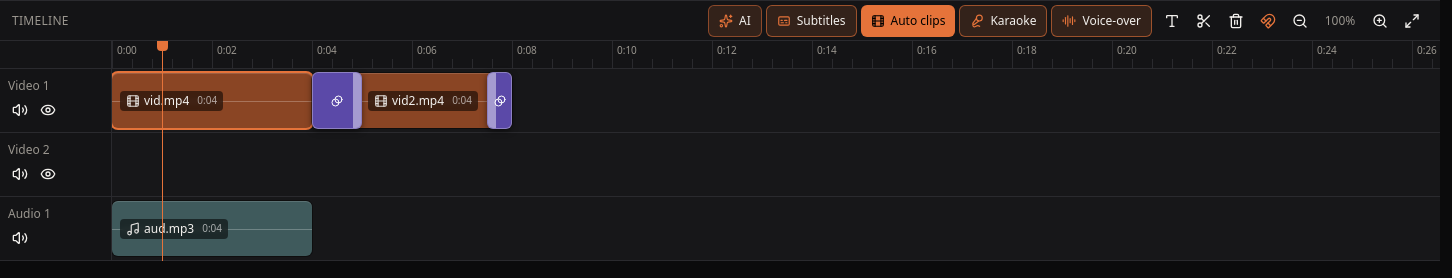
Scenario: transitions on the timeline › a clip shows where it comes in and leaves
Expected: the number of buttons with test id "transition-in-mark" is 1, [312,72,362,129]
Expected: the number of buttons with test id "transition-out-mark" is 1, [487,72,512,129]
Press the mouse on the slider named "Length of the transition in" at [357, 100], box [353,73,361,128]
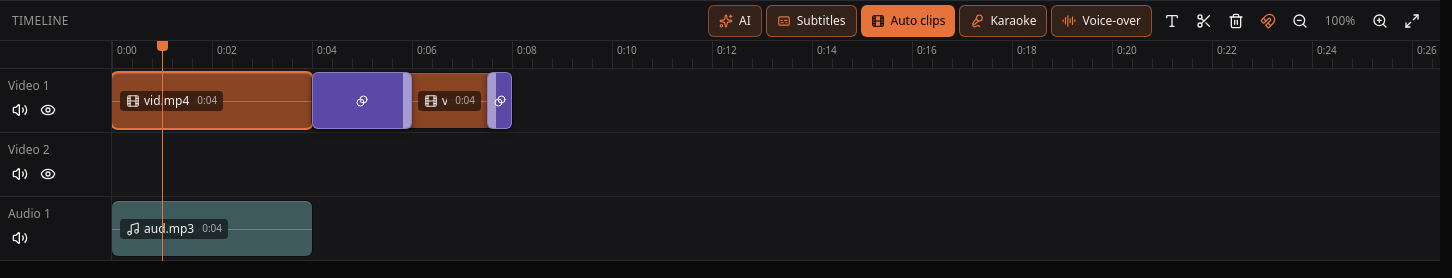
Click the button named "Transition out: Fade out, 0.5 s".
click(500, 100)  # box [487,72,512,129]
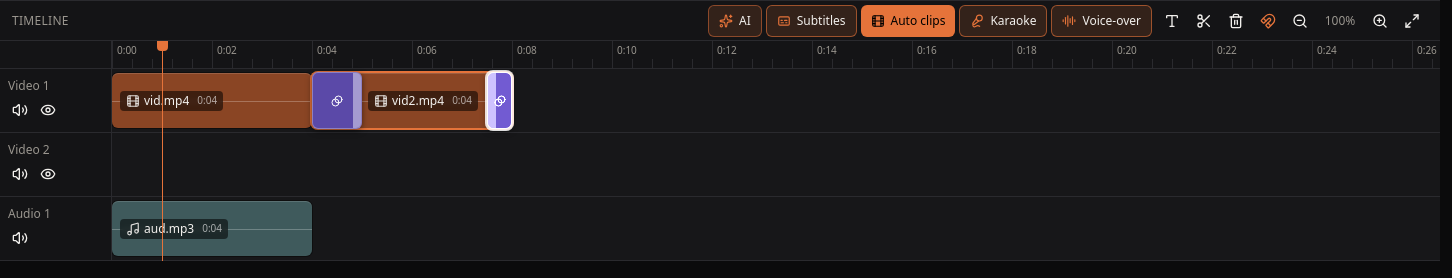
Press Delete in the button named "Transition out: Fade out, 0.5 s", box [487,72,512,129]
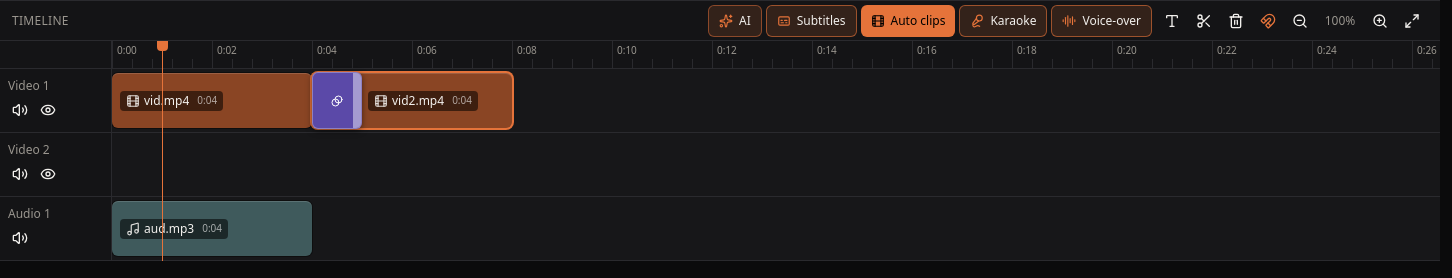
Now the button with test id "transition-out-mark" is gone
